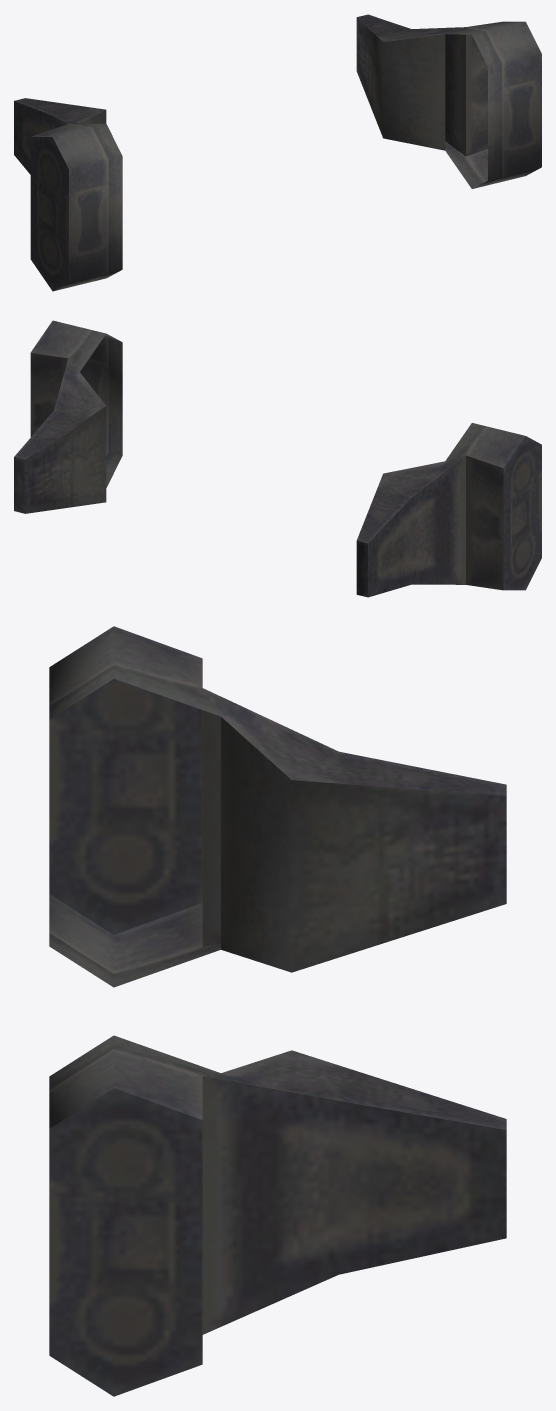
3 views of the same model, one above another, from view 1: azimuth 30°, elevation 25°; view 2: azimuth 150°, elevation 25°; view 3: azimuth 270°, elevation 25° (orthographic). The views are drawn at different scales.
Visible parts, largest first — view 1: set_0_group_0; view 2: set_0_group_0; view 3: set_0_group_0.
Boxes of the visible parts, x1,y1,x2,y2 form: set_0_group_0: (14,14,541,291); set_0_group_0: (14,320,541,597); set_0_group_0: (49,626,506,1396).
Size of the model in its own units: 0.4235 by 0.1321 by 0.1773.
Materials: 1 (1 with a texture image).
